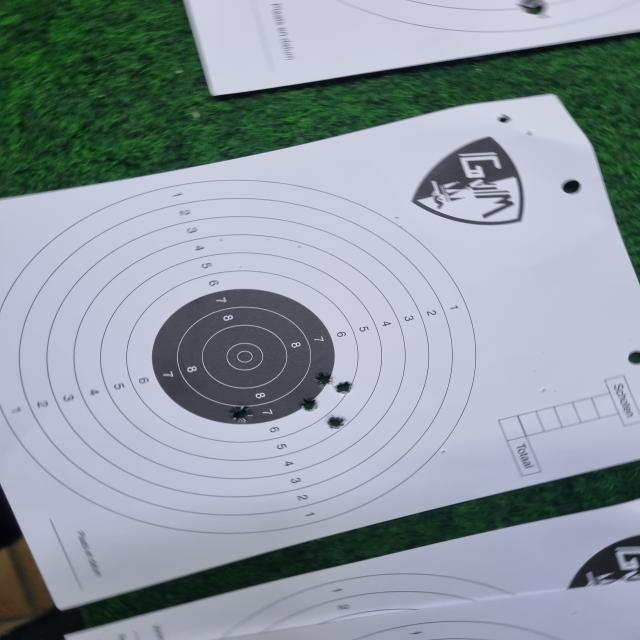2: (512, 2, 552, 18)
5: (327, 416, 345, 429)
6: (334, 381, 352, 394)
7: (228, 405, 254, 422), (315, 372, 334, 386), (300, 398, 318, 412)
Target: (0, 180, 474, 534)
black_contour: (152, 288, 334, 426)
